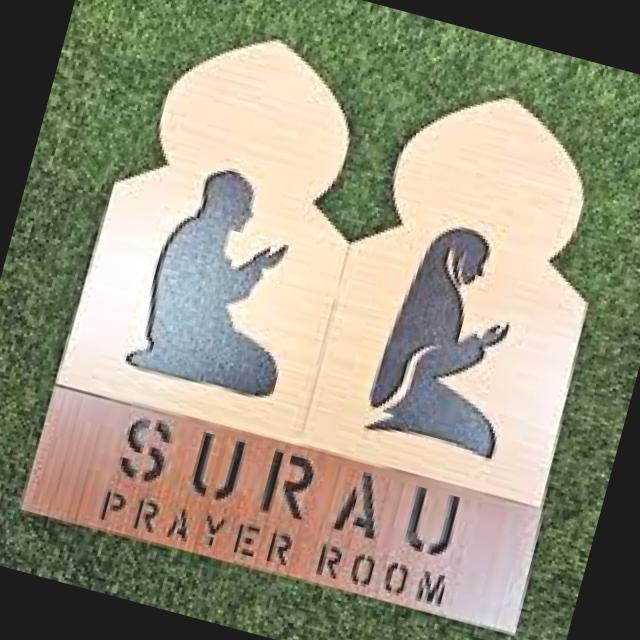surau_icon: (111, 138, 574, 484)
